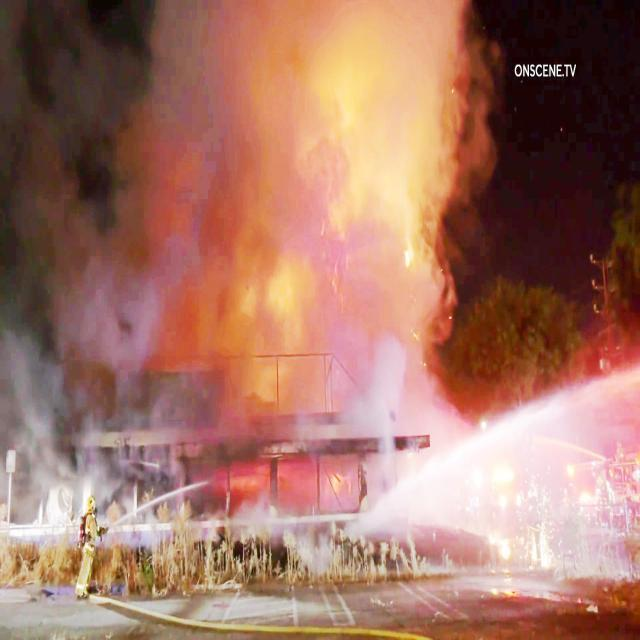Smoke: (16, 6, 447, 345)
